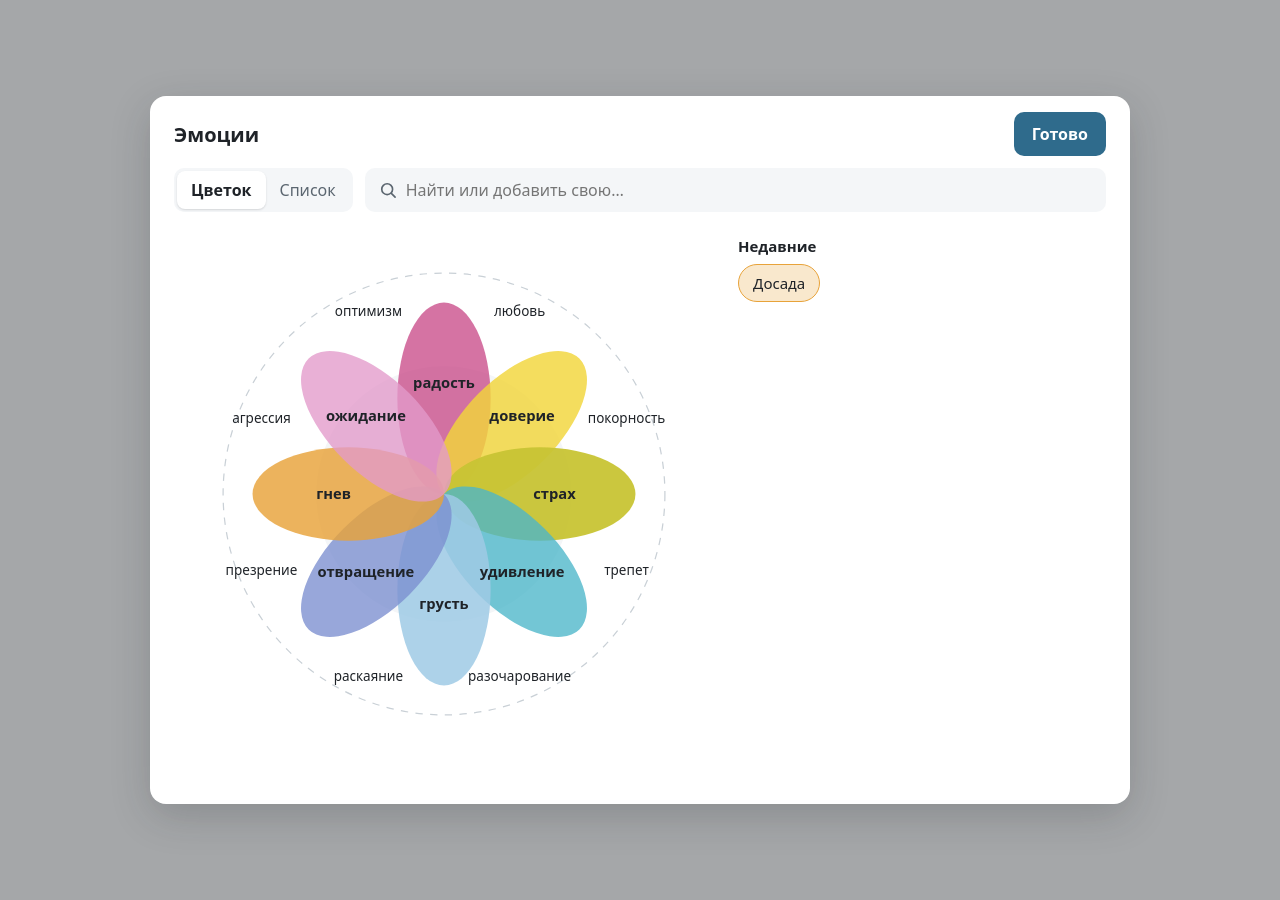
Test case: EmotionPicker › list view shows families and recent
The image size is (1280, 900).
Click the button "Список".
click(308, 190)  # box [266,171,350,209]
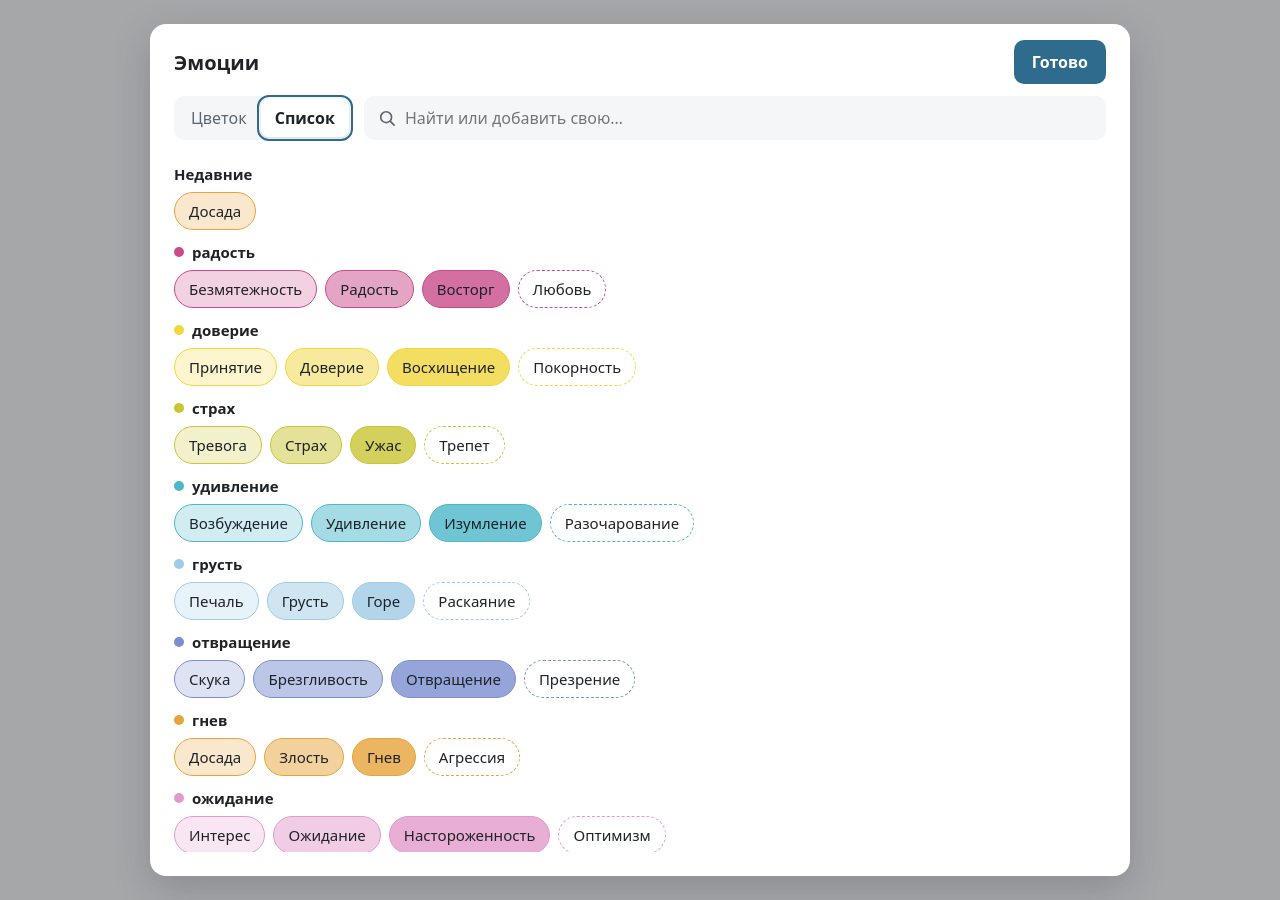
Expected: the heading "радость" is shown, [174,242,255,262]
Expected: the heading "доверие" is shown, [174,320,259,340]
Expected: the heading "страх" is shown, [174,398,235,418]
